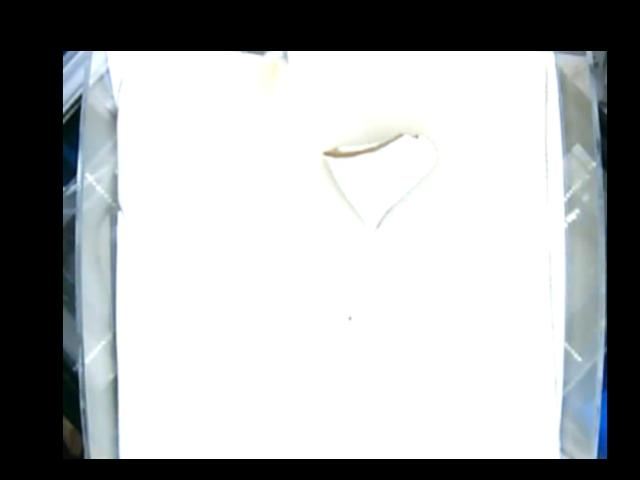China: (321, 131, 434, 230)
